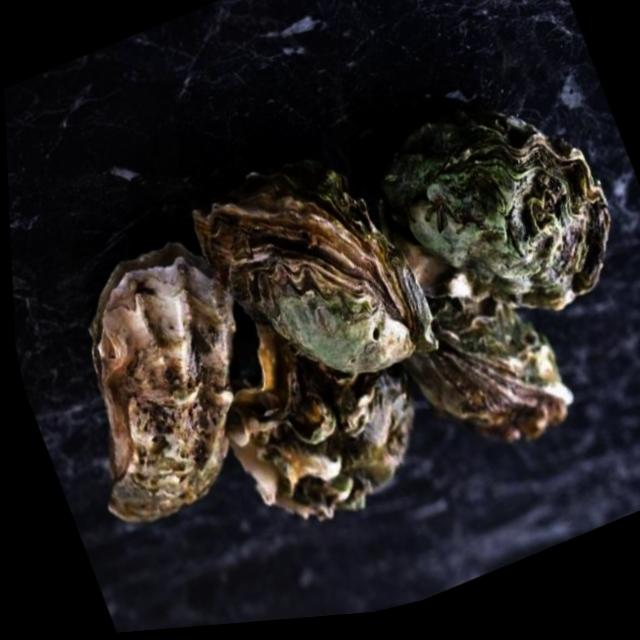Oyster-Closed: (182, 130, 442, 411), (394, 276, 578, 466)
Oyster-Indeterminate: (368, 71, 628, 347), (54, 227, 274, 533), (201, 283, 434, 541)
